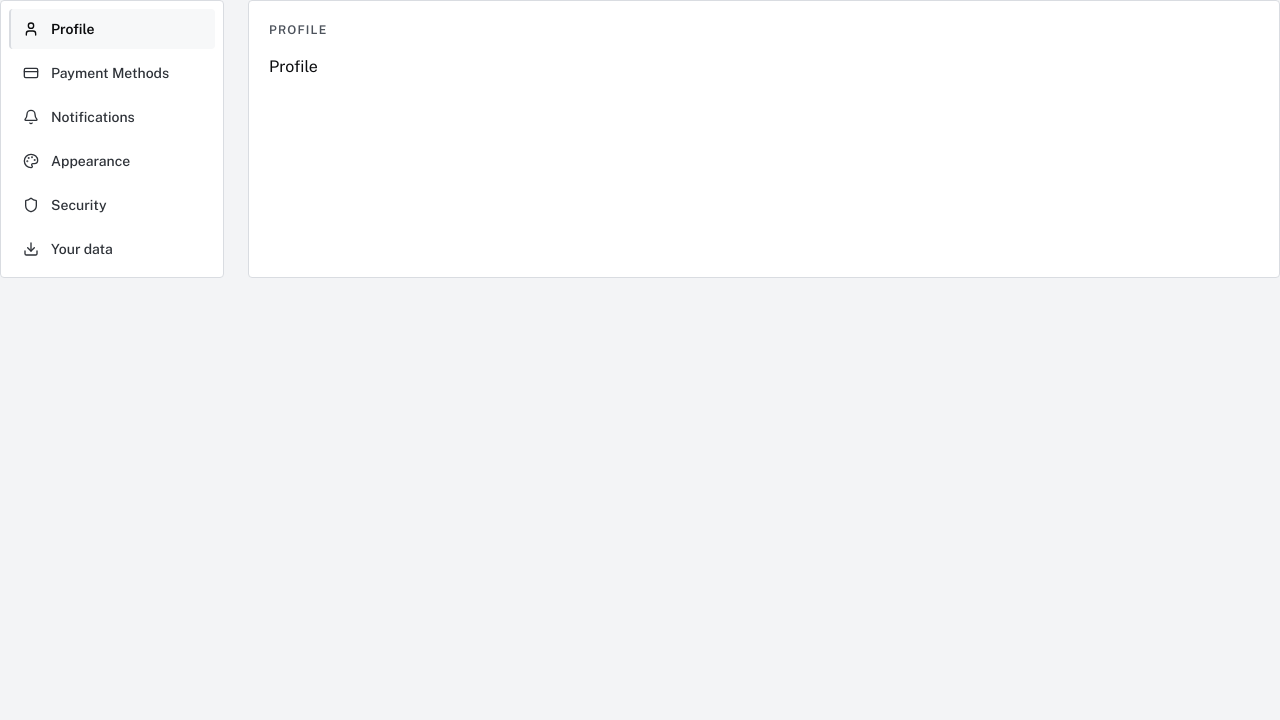
Test case: Your data settings › shows download and deletion request for tenant
Click the button titled "Open Your data settings.".
click(112, 249)  # box [9,229,215,269]
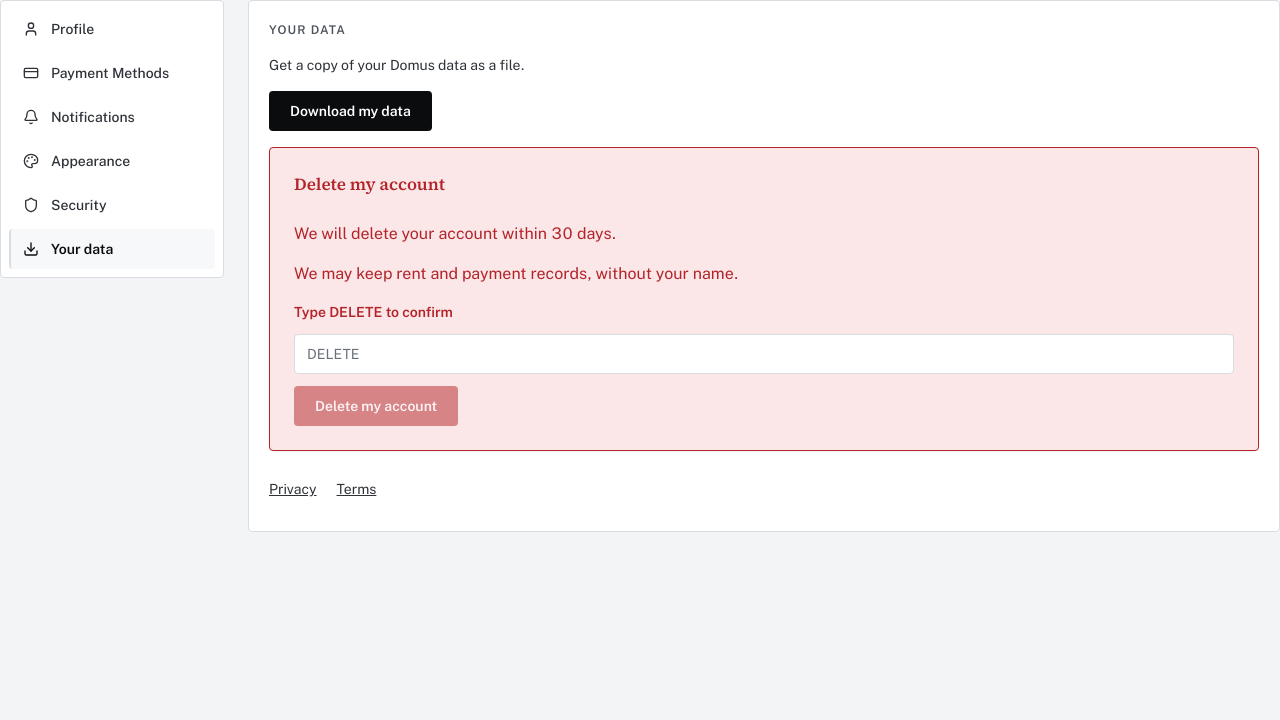
Check: the text "Get a copy of your Domus data as a file." is shown, box [269,57,525,73]
Check: the button "Download my data" is shown, box [269,91,432,131]
Check: the heading "Delete my account" is shown, box [294,172,445,196]
